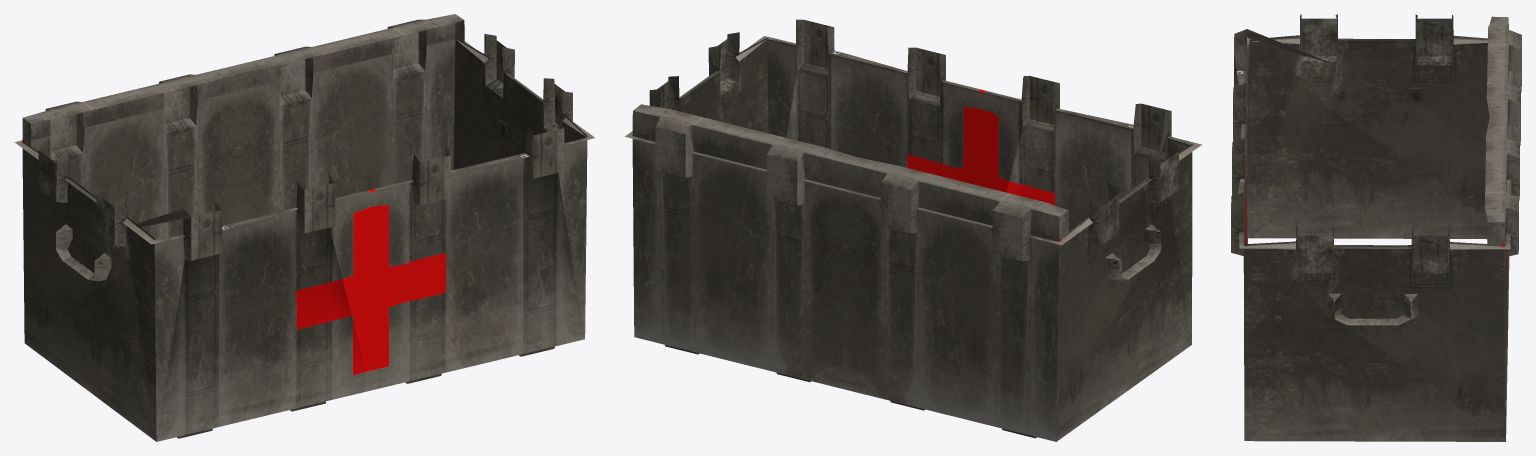
File: YaoXiang.FBX
3 renders of one model, left to right at view 1: azimuth 30°, elevation 25°; view 2: azimuth 150°, elevation 25°; view 3: azimuth 270°, elevation 25°, orthographic. The views are drawn at different scales.
Visible parts, largest first — view 1: DrawCall_1011; view 2: DrawCall_1011; view 3: DrawCall_1011.
Boxes of the visible parts, x1,y1,x2,y2 form: DrawCall_1011: (14,14,594,441); DrawCall_1011: (625,19,1201,441); DrawCall_1011: (1231,14,1521,441).
Size of the model in its own units: 306 by 153 by 172.
